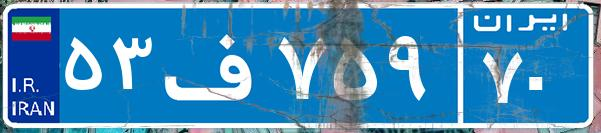0: (525, 38, 570, 115)
3: (110, 28, 158, 105)
5: (330, 28, 385, 110), (57, 26, 110, 107)
7: (273, 28, 330, 110), (475, 38, 525, 113)
9: (385, 28, 445, 110)
ف: (158, 15, 273, 115)
